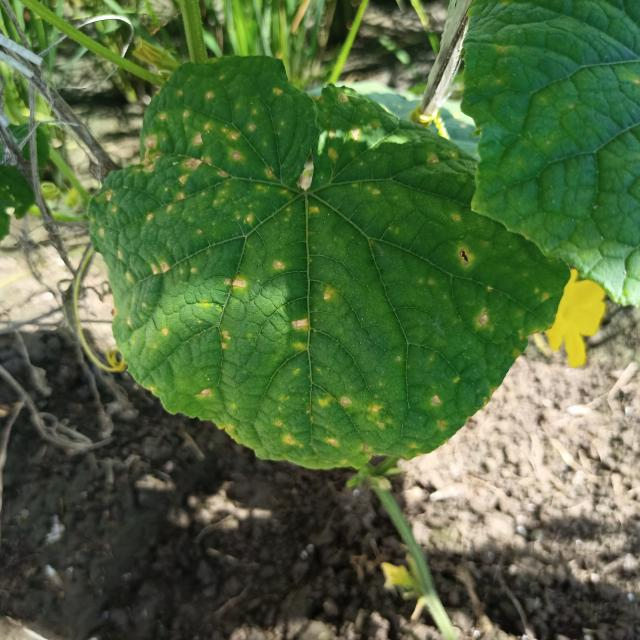disease_cucumber: (99, 60, 530, 469)
